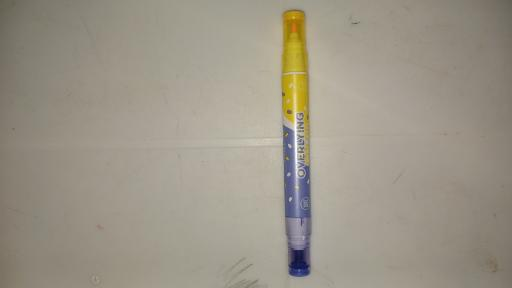Highlighter: (282, 10, 311, 279)
